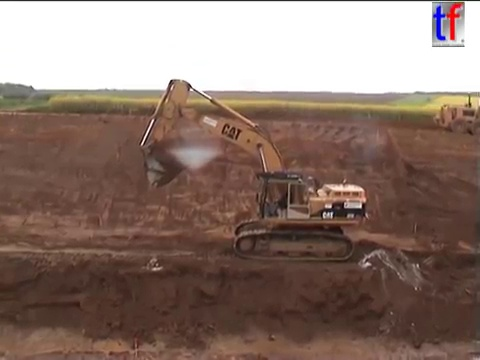excavator: (138, 76, 371, 264)
wheel loader: (432, 93, 480, 138)
